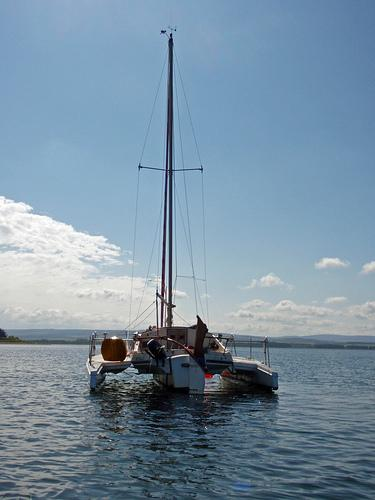Ship: (88, 36, 280, 399)
